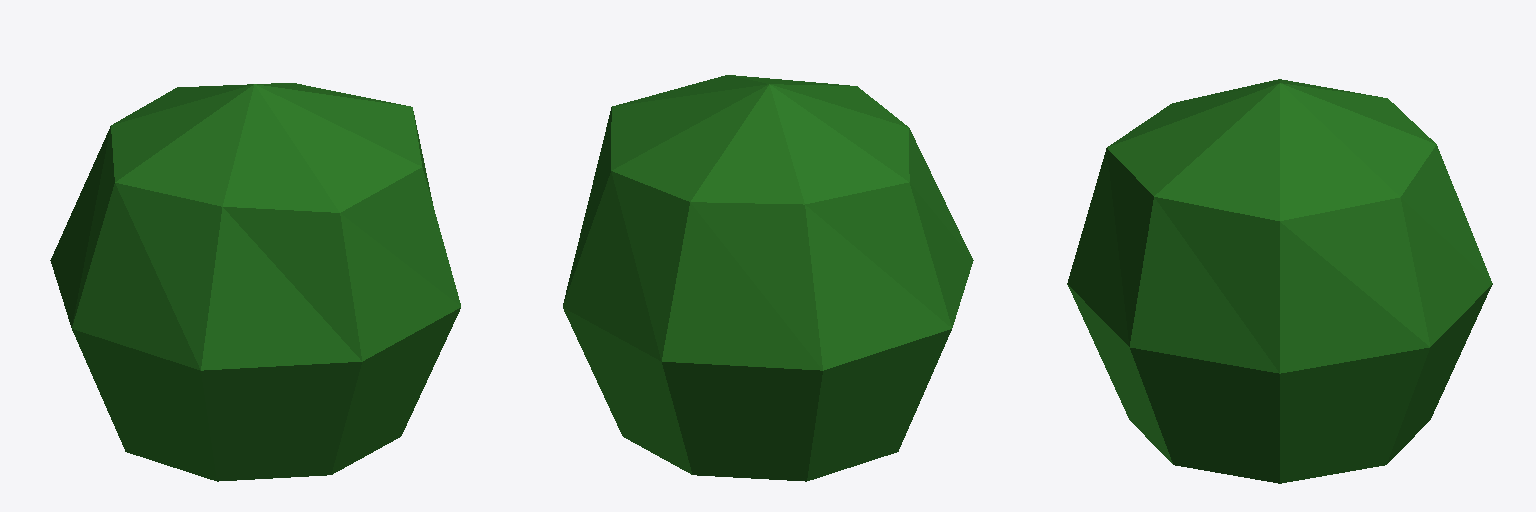
Rendered from Beerenbusch_alle.obj.
3 views of the same model, side by side, from view 1: azimuth 30°, elevation 25°; view 2: azimuth 150°, elevation 25°; view 3: azimuth 270°, elevation 25° (orthographic).
Parts seen in each view (by area): view 1: Kugel; view 2: Kugel; view 3: Kugel.
Boxes of the visible parts, x1=… form: Kugel: x1=50, y1=83, x2=460, y2=481; Kugel: x1=563, y1=75, x2=973, y2=481; Kugel: x1=1067, y1=79, x2=1492, y2=483.
Size of the model in its own units: 20000 by 17853 by 20000.